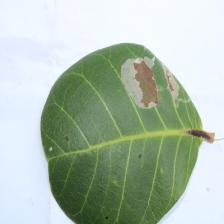leaf miner: (40, 41, 214, 224)
